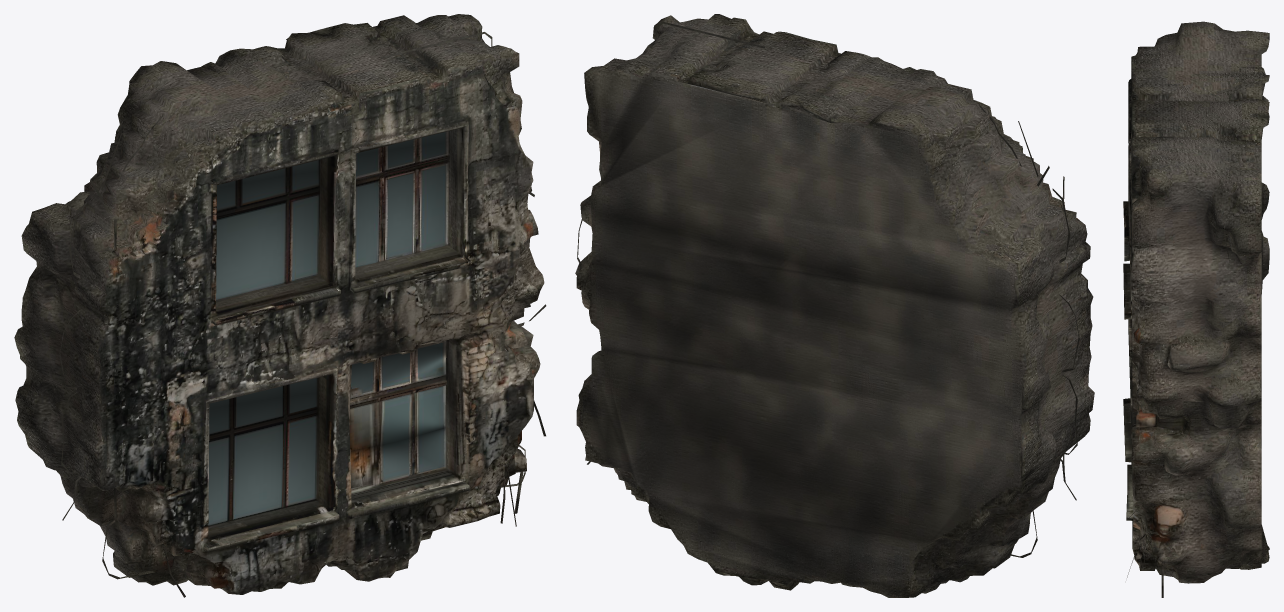
Rendered from selected.glb.
The picture shows the model from 3 angles, left to right: view 1: azimuth 30°, elevation 25°; view 2: azimuth 150°, elevation 25°; view 3: azimuth 270°, elevation 25°; orthographic projection. The views are drawn at different scales.
Parts seen in each view (by area): view 1: tripo_node_63fc099b-d855-43c9-814d-32eb1b0cf22b; view 2: tripo_node_63fc099b-d855-43c9-814d-32eb1b0cf22b; view 3: tripo_node_63fc099b-d855-43c9-814d-32eb1b0cf22b.
Part boxes in pixels (x1,y1,x2,y2): tripo_node_63fc099b-d855-43c9-814d-32eb1b0cf22b: (14,14,546,597); tripo_node_63fc099b-d855-43c9-814d-32eb1b0cf22b: (575,14,1094,597); tripo_node_63fc099b-d855-43c9-814d-32eb1b0cf22b: (1123,21,1269,597).
Size of the model in its own units: 0.998 by 0.998 by 0.291.
1 material, 1 textured.
